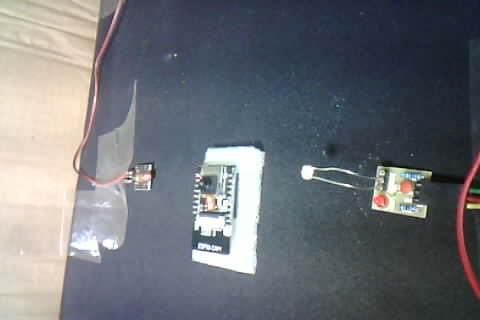esp32: (186, 145, 277, 273)
